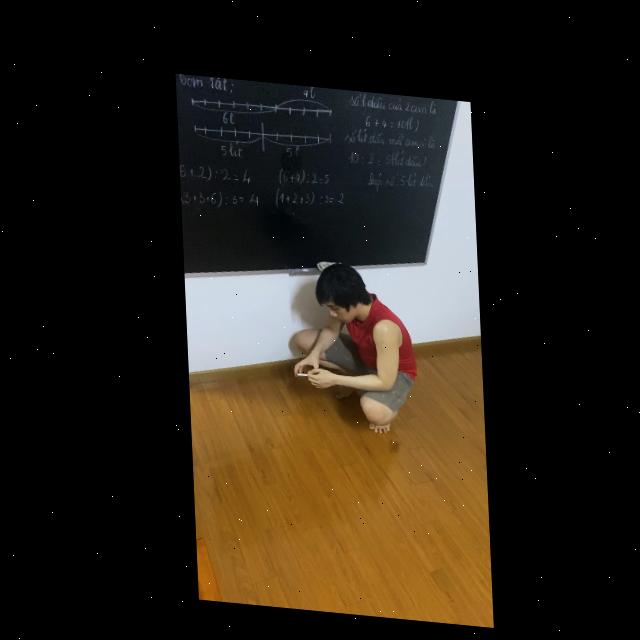cigarette: (293, 368, 305, 371)
